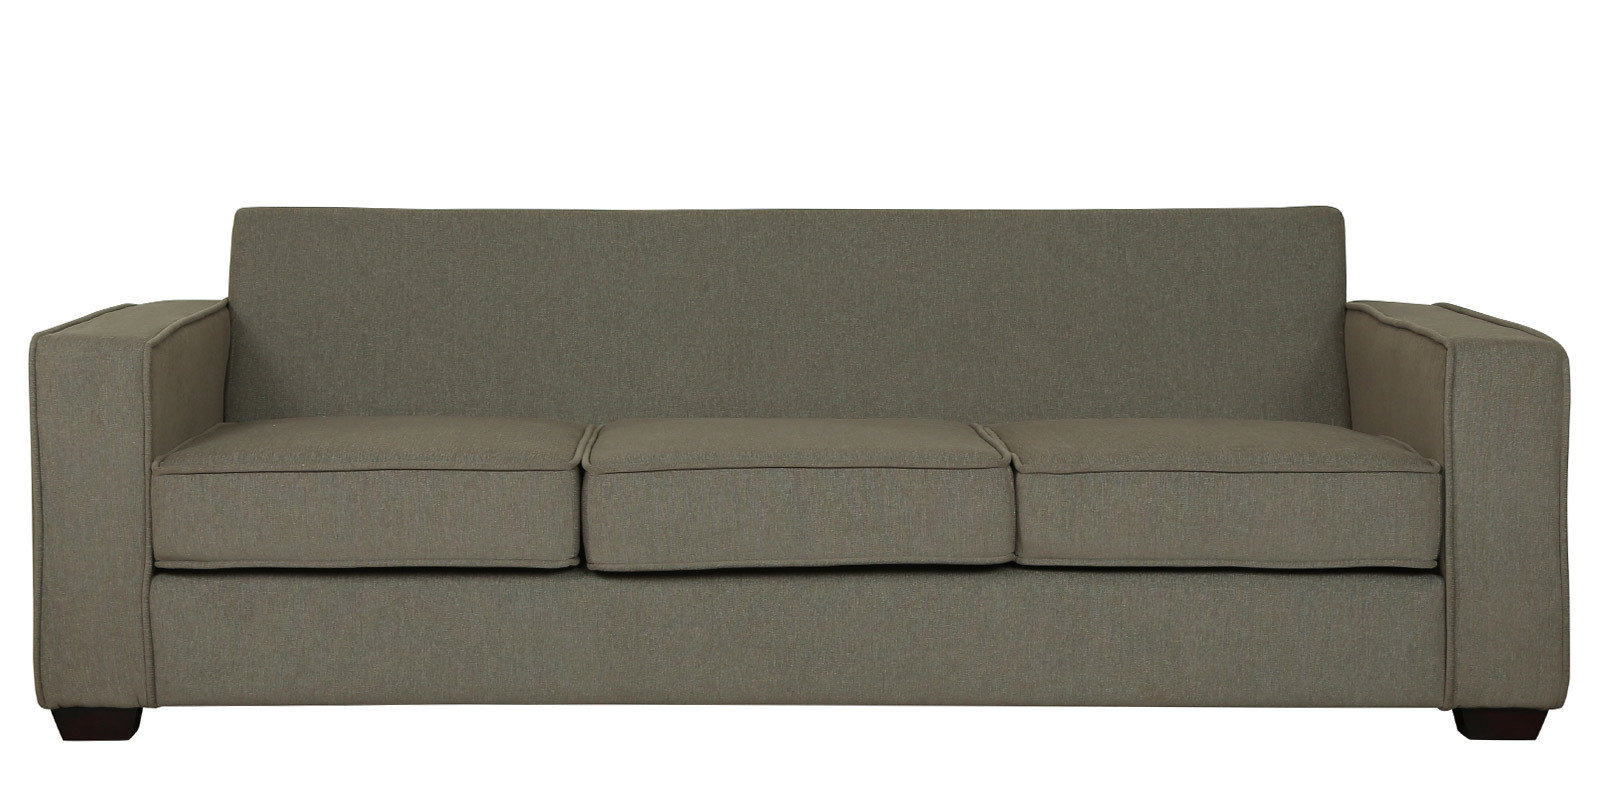Hugo Three Seater Sofa in Sandy Brown Colour by CasaCraft: (24, 189, 1599, 769)
